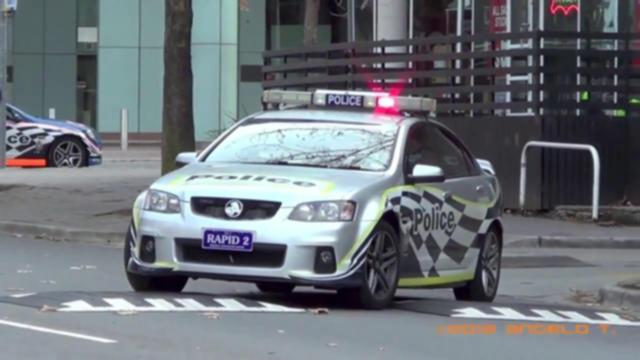police: (123, 86, 508, 302)
